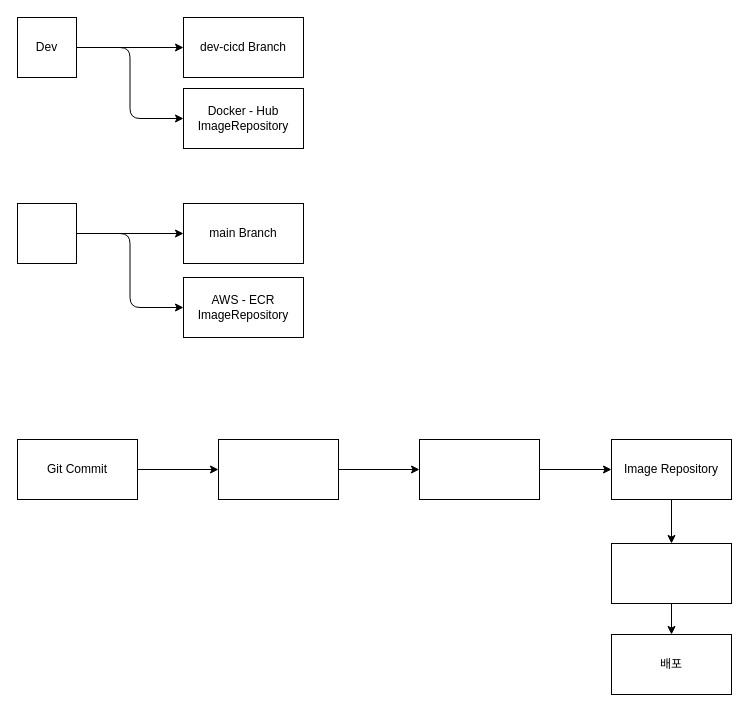
The diagram is 749 pixels wide and 712 high, and some of its shapes have lost their labels. The shapes that lost their labels are listed below. From the top down, each one's box as (x1, y1, x2, y2) in pixels, then its label:
(16, 202, 76, 264): Prod
(218, 438, 338, 500): Git Tag Commit
(418, 438, 540, 500): Git Actions
(610, 542, 732, 604): Argo CD
